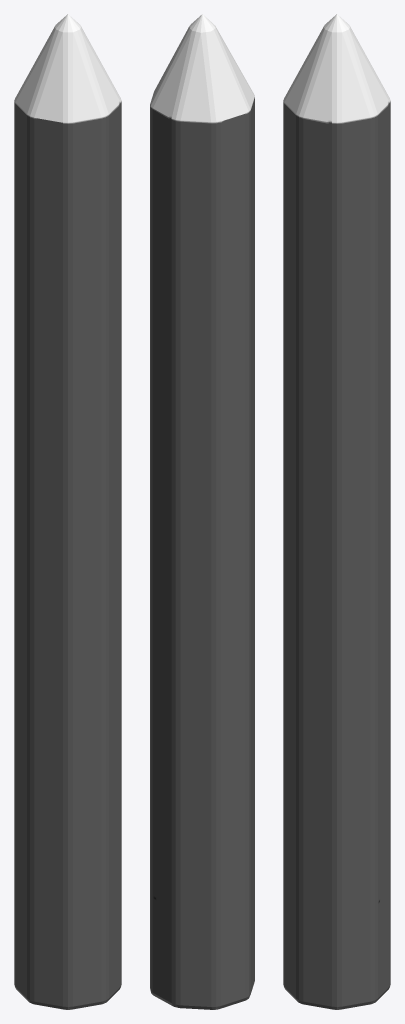
3 renders of one model, left to right at view 1: azimuth 90°, elevation 25°; view 2: azimuth 150°, elevation 25°; view 3: azimuth 270°, elevation 25°, orthographic.
Parts seen in each view (by area): view 1: cone_円錐; view 2: cone_円錐; view 3: cone_円錐.
Part boxes in pixels (left/top/right/bottom): cone_円錐: left=14, top=14, right=121, bottom=1009; cone_円錐: left=150, top=14, right=254, bottom=1009; cone_円錐: left=283, top=14, right=390, bottom=1009.
Bounding box in the file's own units: 1.95 × 19.59 × 1.95.
1 material, 1 textured.
